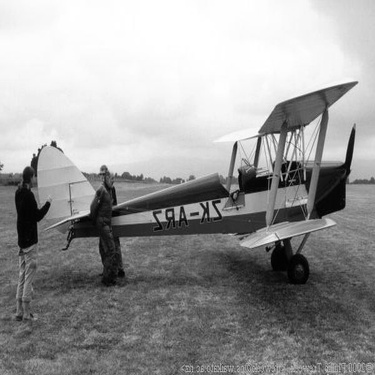airplane: (29, 76, 363, 286)
